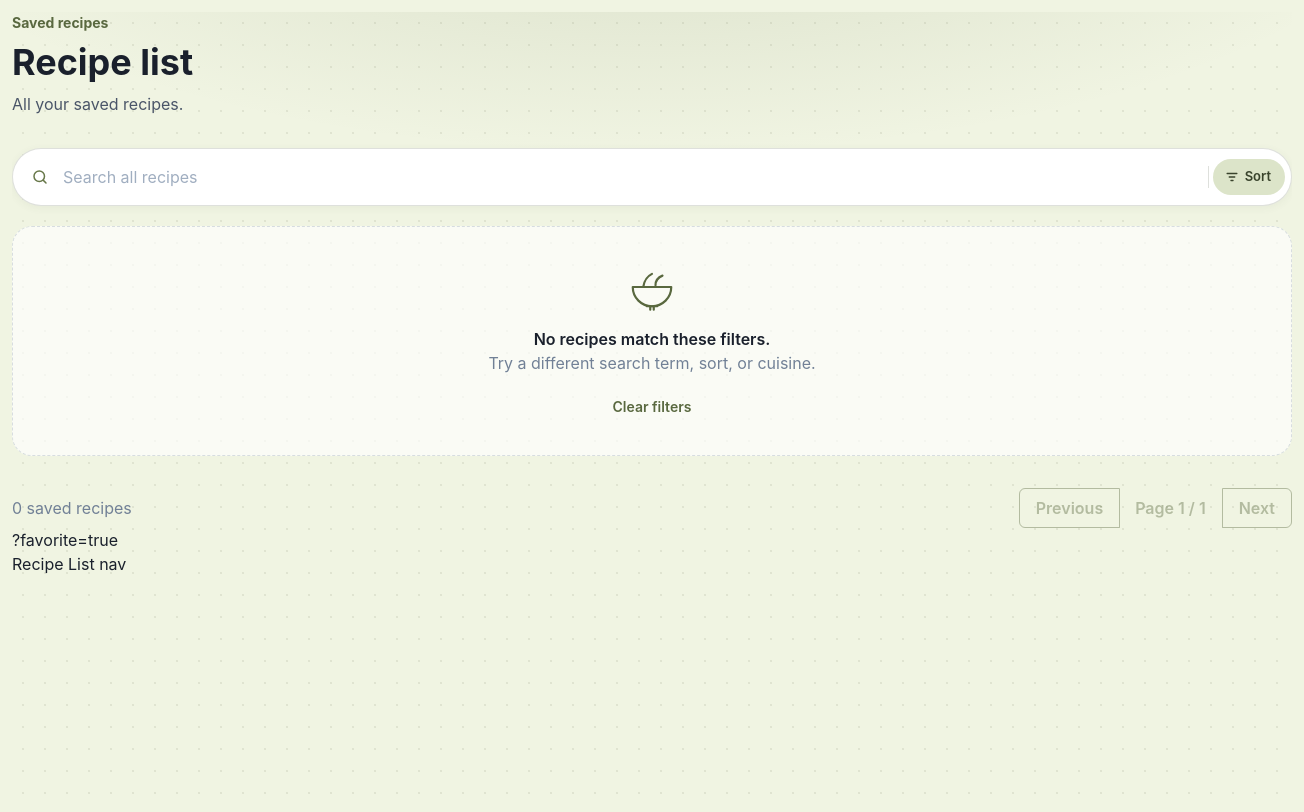
RecipeListPage › keeps the favorite flag in the URL and query while searching
In the field with placeholder "Search all recipes": (626, 177) [49,155,1204,199], type "soup"
Wait 300 ms
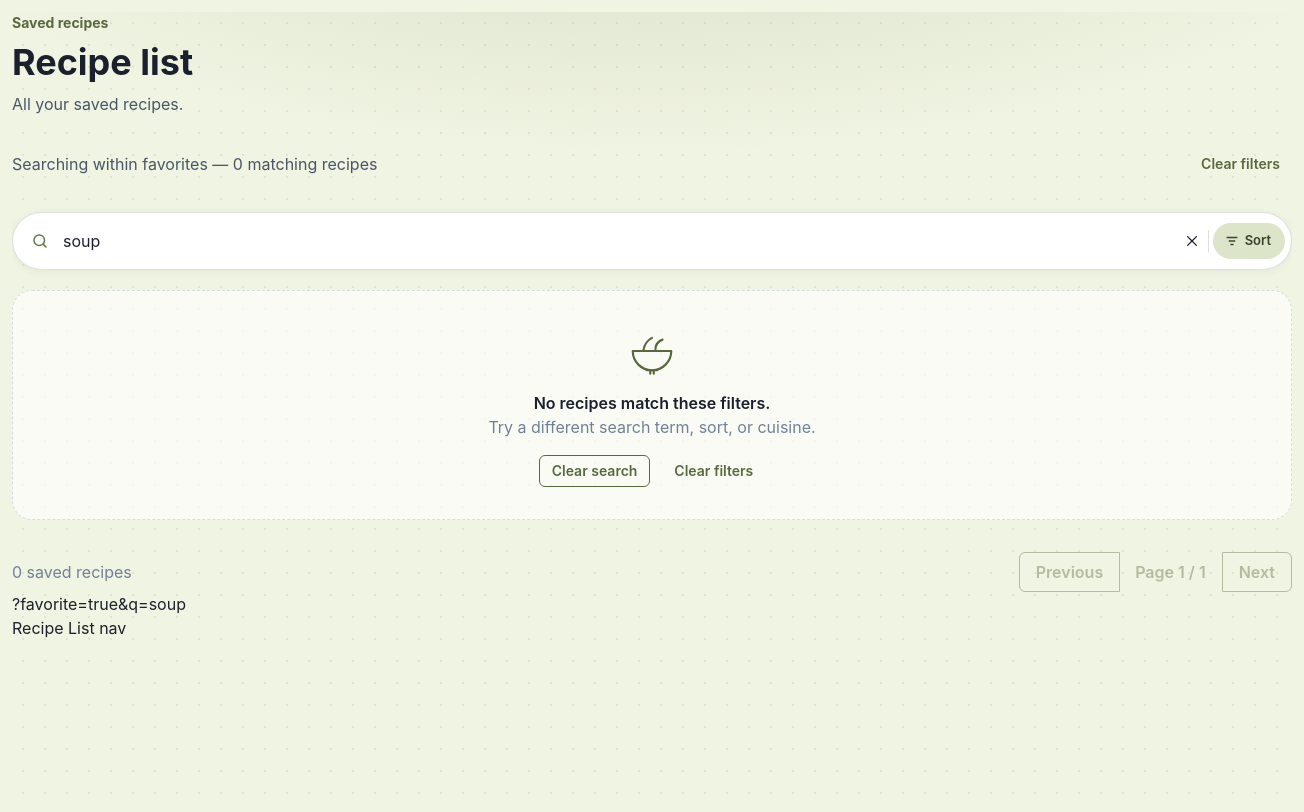
Check: the text with test id "location" shows "favorite=true", box [12,594,186,614]
Check: the text with test id "location" shows "q=soup", box [12,594,186,614]
